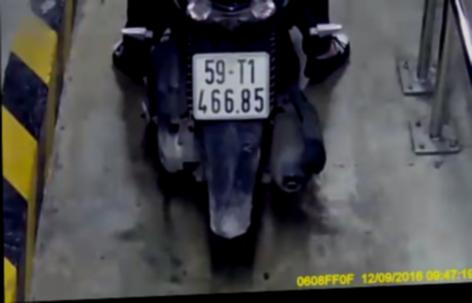License_Plate: (181, 45, 279, 120)
